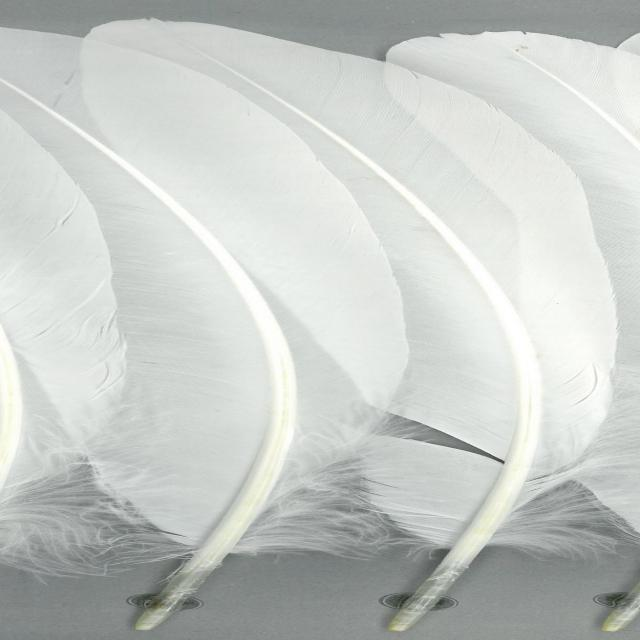feather: (76, 19, 626, 632), (0, 24, 416, 633)
